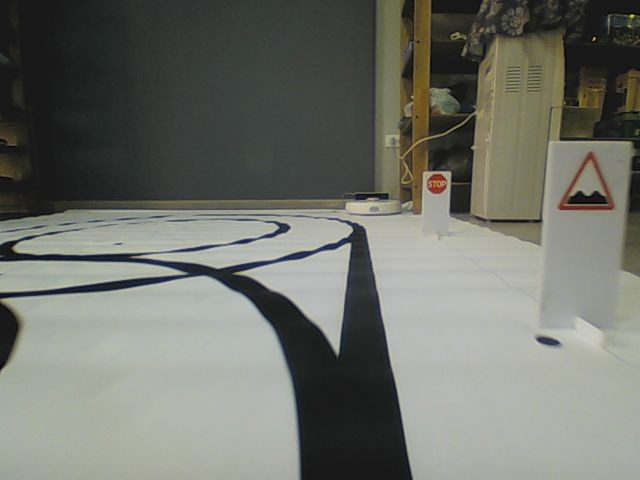Nerov: (557, 151, 617, 213)
Stop: (426, 173, 448, 194)
